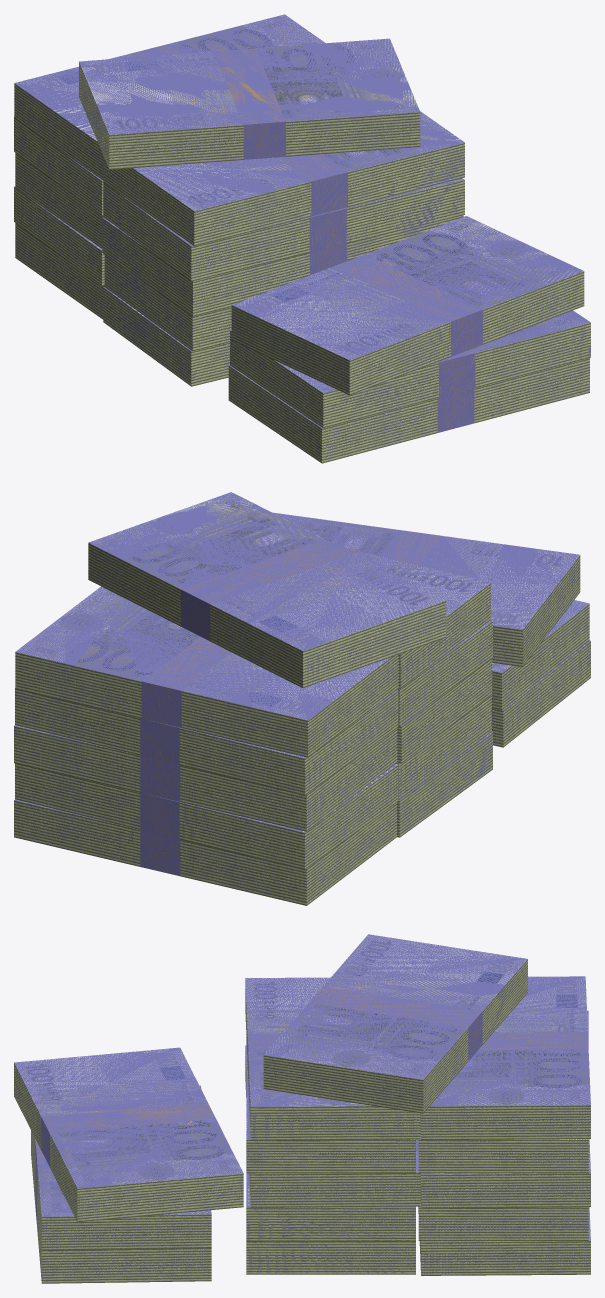
The model's file is Euros3.fbx.
3 views of the same model, one above another, from view 1: azimuth 30°, elevation 25°; view 2: azimuth 150°, elevation 25°; view 3: azimuth 270°, elevation 25° (orthographic). The views are drawn at different scales.
Visible parts, largest first — view 1: G_100_Euro_stack12, G_100_Euro_stack13, G_100_Euro_stack9, G_100_Euro_stack10, G_100_Euro_stack7, G_100_Euro_stack11, G_100_Euro_stack8, G_100_Euro_stack5, G_100_Euro_stack14, G_100_Euro_stack3, G_100_Euro_stack2, G_100_Euro_stack6 (+2 smaller); view 2: G_100_Euro_stack13, G_100_Euro_stack8, G_100_Euro_stack2, G_100_Euro_stack6, G_100_Euro_stack4, G_100_Euro_stack12, G_100_Euro_stack1, G_100_Euro_stack9, G_100_Euro_stack10, G_100_Euro_stack11, G_100_Euro_stack14, G_100_Euro_stack7 (+2 smaller); view 3: G_100_Euro_stack13, G_100_Euro_stack12, G_100_Euro_stack8, G_100_Euro_stack9, G_100_Euro_stack10, G_100_Euro_stack11, G_100_Euro_stack3, G_100_Euro_stack7, G_100_Euro_stack5, G_100_Euro_stack4, G_100_Euro_stack1, G_100_Euro_stack6 (+2 smaller).
Part boxes in pixels (x1=…): G_100_Euro_stack12: x1=231, y1=216, x2=584, y2=395; G_100_Euro_stack13: x1=79, y1=38, x2=420, y2=169; G_100_Euro_stack9: x1=103, y1=111, x2=464, y2=246; G_100_Euro_stack10: x1=230, y1=310, x2=590, y2=428; G_100_Euro_stack7: x1=103, y1=178, x2=464, y2=281; G_100_Euro_stack11: x1=228, y1=358, x2=589, y2=463; G_100_Euro_stack8: x1=14, y1=14, x2=325, y2=180; G_100_Euro_stack5: x1=102, y1=215, x2=463, y2=316; G_100_Euro_stack14: x1=103, y1=287, x2=229, y2=386; G_100_Euro_stack3: x1=104, y1=255, x2=231, y2=351; G_100_Euro_stack2: x1=14, y1=186, x2=104, y2=285; G_100_Euro_stack6: x1=14, y1=117, x2=103, y2=215; G_100_Euro_stack13: x1=88, y1=492, x2=446, y2=687; G_100_Euro_stack8: x1=15, y1=586, x2=398, y2=757; G_100_Euro_stack2: x1=15, y1=763, x2=398, y2=869; G_100_Euro_stack6: x1=15, y1=688, x2=398, y2=795; G_100_Euro_stack4: x1=14, y1=725, x2=397, y2=831; G_100_Euro_stack12: x1=273, y1=512, x2=580, y2=666; G_100_Euro_stack1: x1=14, y1=799, x2=396, y2=905; G_100_Euro_stack9: x1=343, y1=548, x2=490, y2=688; G_100_Euro_stack10: x1=492, y1=600, x2=589, y2=709; G_100_Euro_stack11: x1=492, y1=640, x2=590, y2=747; G_100_Euro_stack14: x1=397, y1=732, x2=492, y2=837; G_100_Euro_stack7: x1=397, y1=620, x2=492, y2=726; G_100_Euro_stack13: x1=263, y1=934, x2=527, y2=1113; G_100_Euro_stack12: x1=14, y1=1047, x2=243, y2=1222; G_100_Euro_stack8: x1=420, y1=976, x2=590, y2=1140; G_100_Euro_stack9: x1=245, y1=977, x2=420, y2=1140; G_100_Euro_stack10: x1=32, y1=1085, x2=211, y2=1250; G_100_Euro_stack11: x1=31, y1=1130, x2=211, y2=1283; G_100_Euro_stack3: x1=246, y1=1173, x2=415, y2=1241; G_100_Euro_stack7: x1=246, y1=1038, x2=415, y2=1173; G_100_Euro_stack5: x1=245, y1=1045, x2=420, y2=1207; G_100_Euro_stack4: x1=420, y1=1139, x2=590, y2=1208; G_100_Euro_stack1: x1=418, y1=1207, x2=590, y2=1275; G_100_Euro_stack6: x1=418, y1=1010, x2=588, y2=1173.
Size of the model in its own units: 0.1744 by 0.108 by 0.2784.
